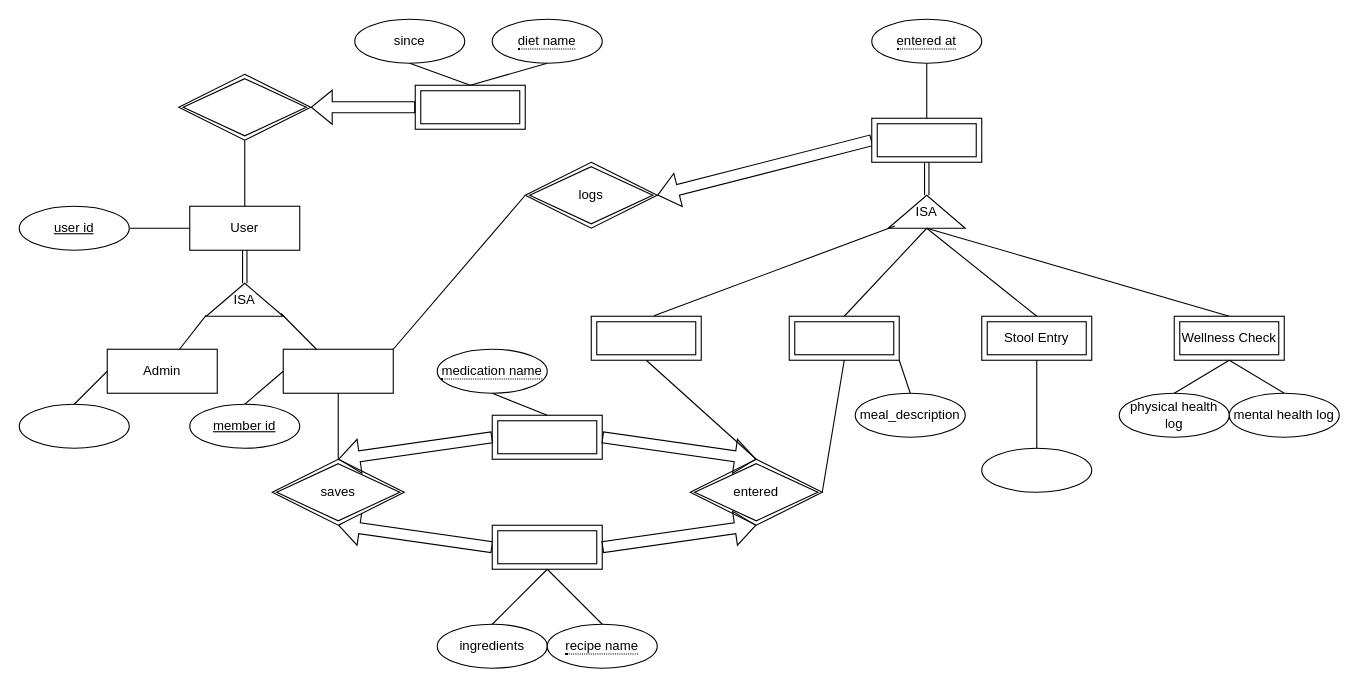
This 1359x688 diagram has some shape labels left out. Each missing label, with the box of its shape:
admin id: (18, 403, 129, 448)
Diet: (414, 84, 525, 129)
Entry: (871, 117, 982, 162)
Meal Entry: (788, 315, 899, 360)
Medication: (491, 414, 602, 459)
Medication Entry: (590, 315, 701, 360)
Member: (282, 348, 393, 393)
Recipe: (491, 524, 602, 569)
starts: (178, 73, 311, 140)
stool description: (981, 447, 1092, 492)
